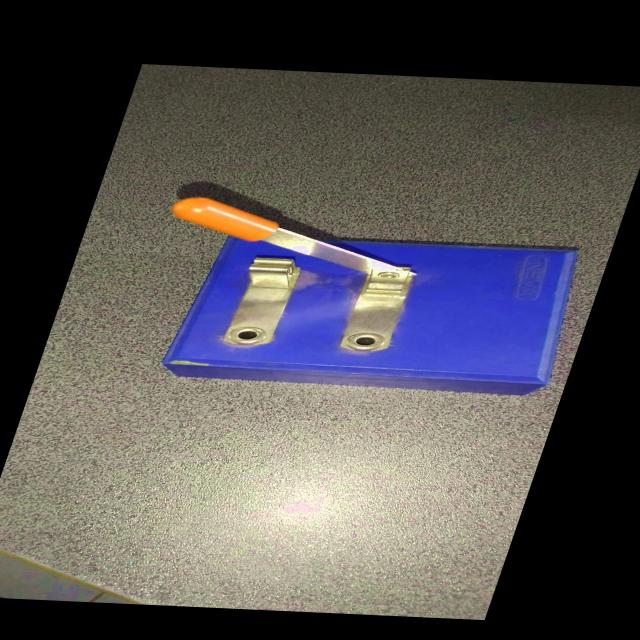L Switch: (81, 192, 616, 412)
